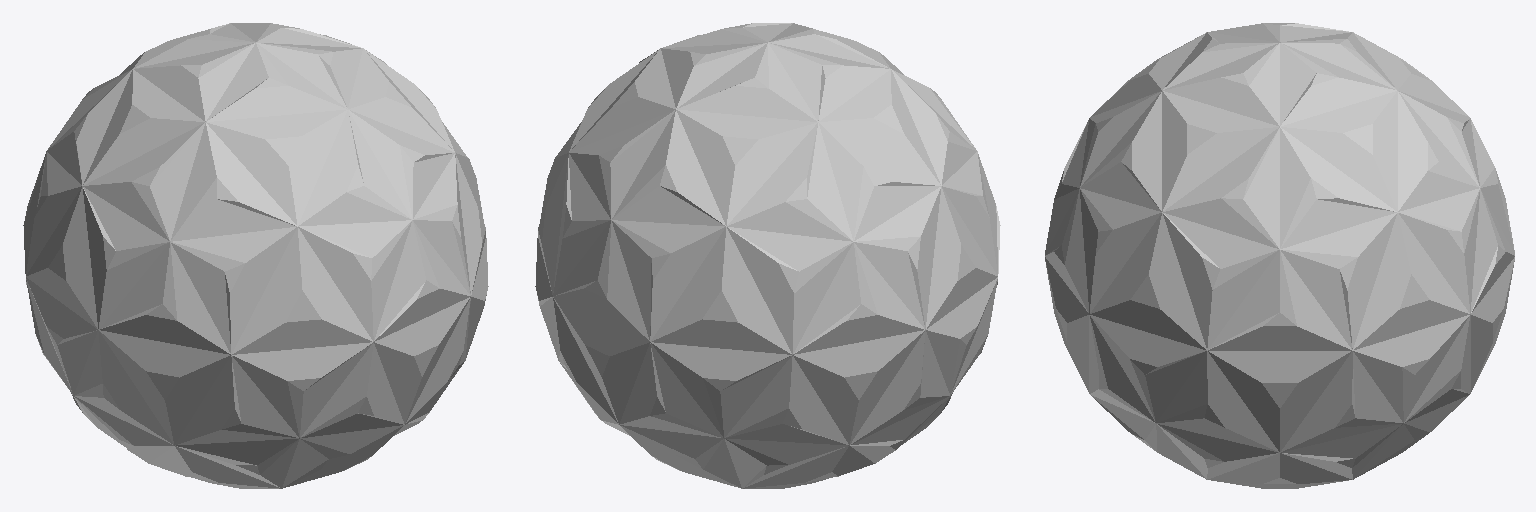
Rendered from iso9.obj.
The picture shows the model from 3 angles: view 1: azimuth 30°, elevation 25°; view 2: azimuth 150°, elevation 25°; view 3: azimuth 270°, elevation 25°; orthographic projection.
Visible parts, largest first — view 1: Icosphere_Icosphere.001; view 2: Icosphere_Icosphere.001; view 3: Icosphere_Icosphere.001.
Boxes of the visible parts, x1=… form: Icosphere_Icosphere.001: x1=23, y1=23, x2=488, y2=488; Icosphere_Icosphere.001: x1=535, y1=23, x2=1000, y2=488; Icosphere_Icosphere.001: x1=1045, y1=23, x2=1514, y2=488.
Size of the model in its own units: 1.97 by 2 by 2.